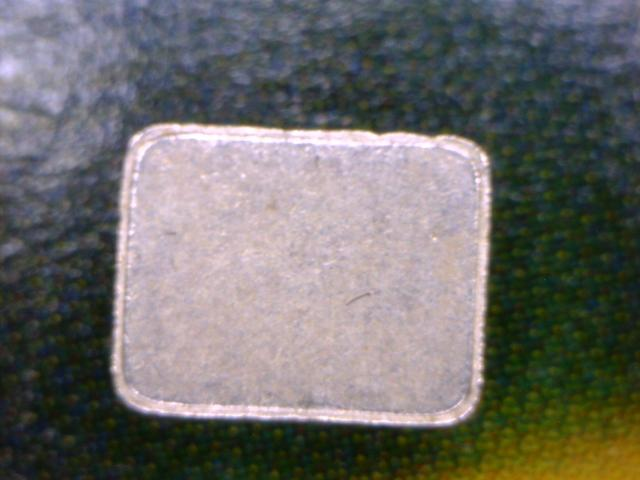nok: (115, 121, 497, 434)
